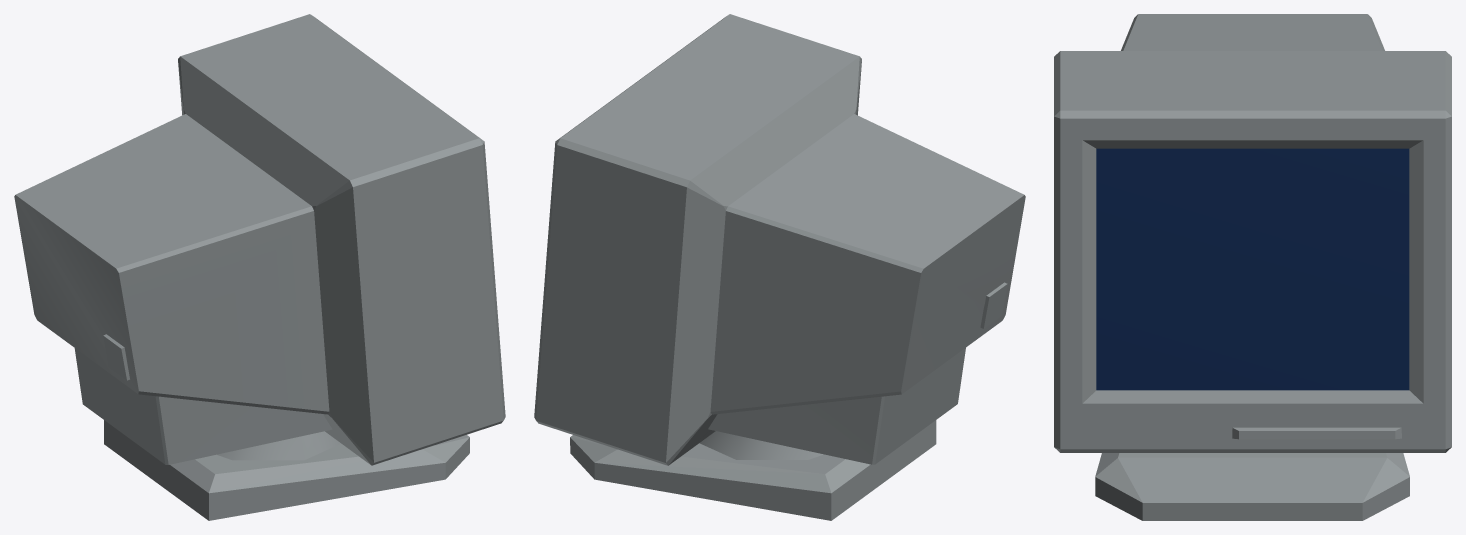
The model's file is Old Computer.fbx.
3 views of the same model, side by side, from view 1: azimuth 30°, elevation 25°; view 2: azimuth 150°, elevation 25°; view 3: azimuth 270°, elevation 25° (orthographic). The views are drawn at different scales.
Parts seen in each view (by area): view 1: monitor01a_reference.smd; view 2: monitor01a_reference.smd; view 3: monitor01a_reference.smd.
Boxes of the visible parts, x1,y1,x2,y2 form: monitor01a_reference.smd: (14, 14, 505, 520); monitor01a_reference.smd: (534, 14, 1025, 520); monitor01a_reference.smd: (1054, 14, 1451, 520).
Size of the model in its own units: 52.03 by 48.21 by 43.94.
